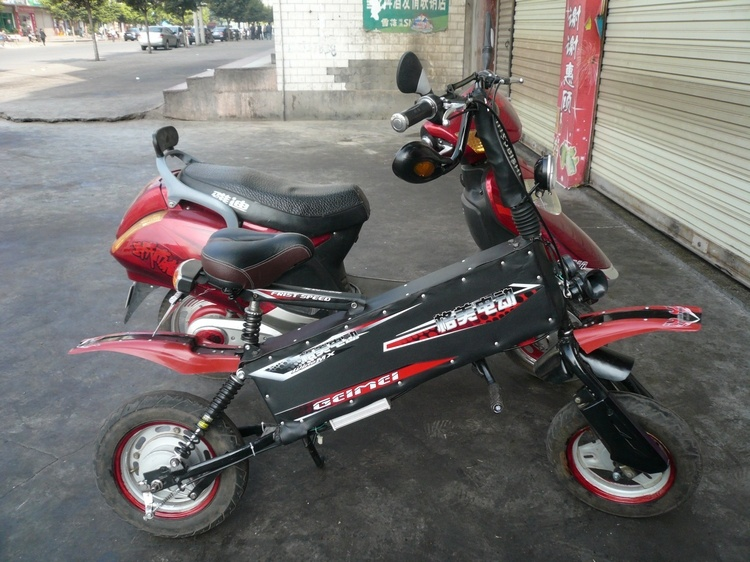non-vehicle: (95, 204, 719, 561), (122, 100, 606, 323)
